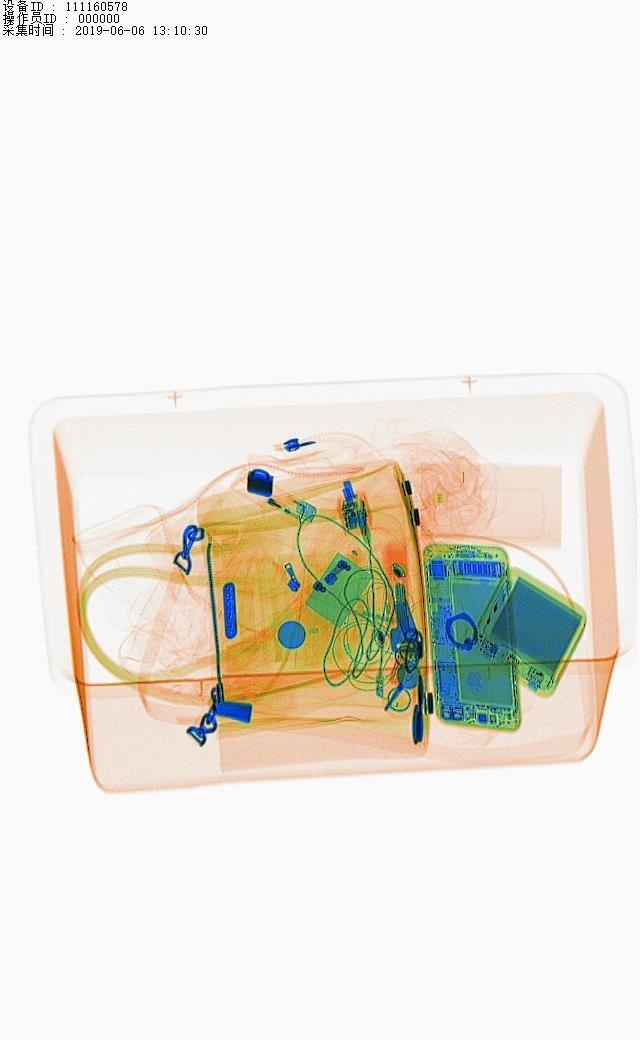NonmetallicFire: (225, 460, 335, 537)
